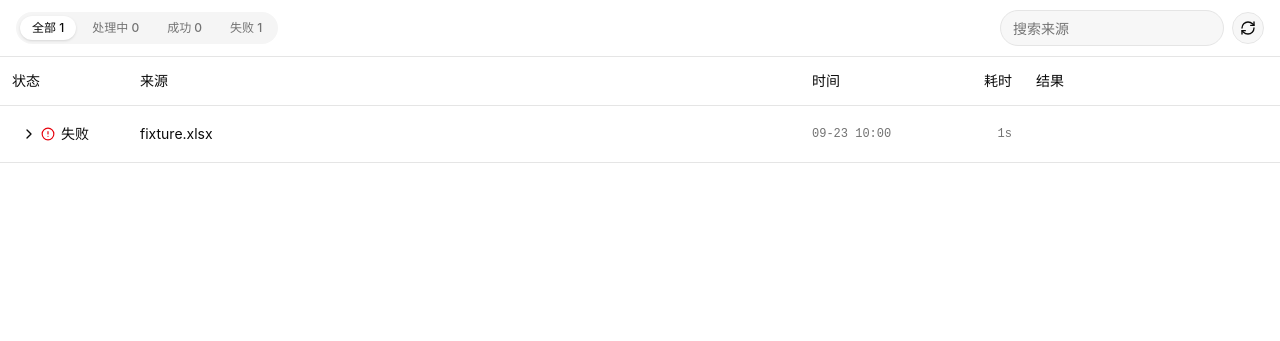
it: shows a prominent failure even when no error message was returned
Click the button "失败": {"x": 57, "y": 134} [12, 118, 102, 150]
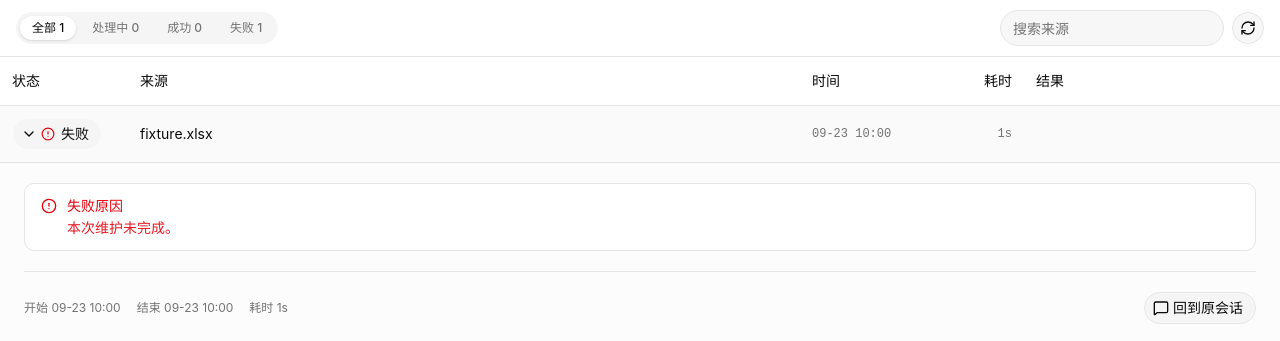
Now the message "失败原因 本次维护未完成。" is shown, box [24, 182, 1256, 250]
